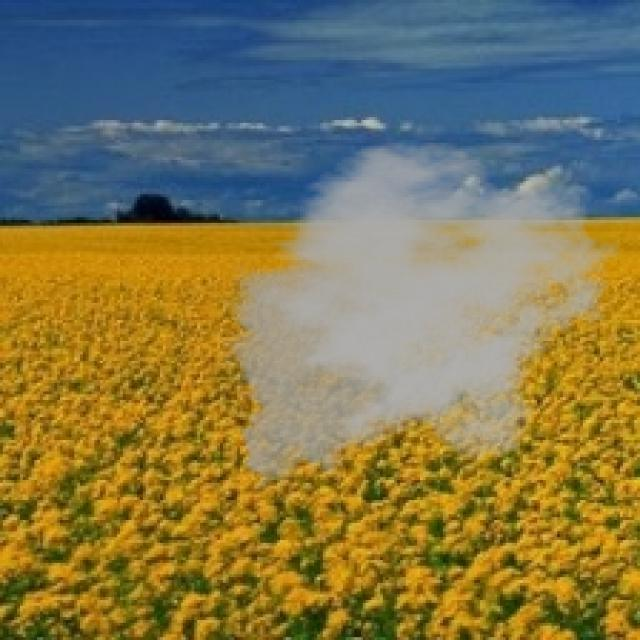smoke: (217, 140, 623, 497)
